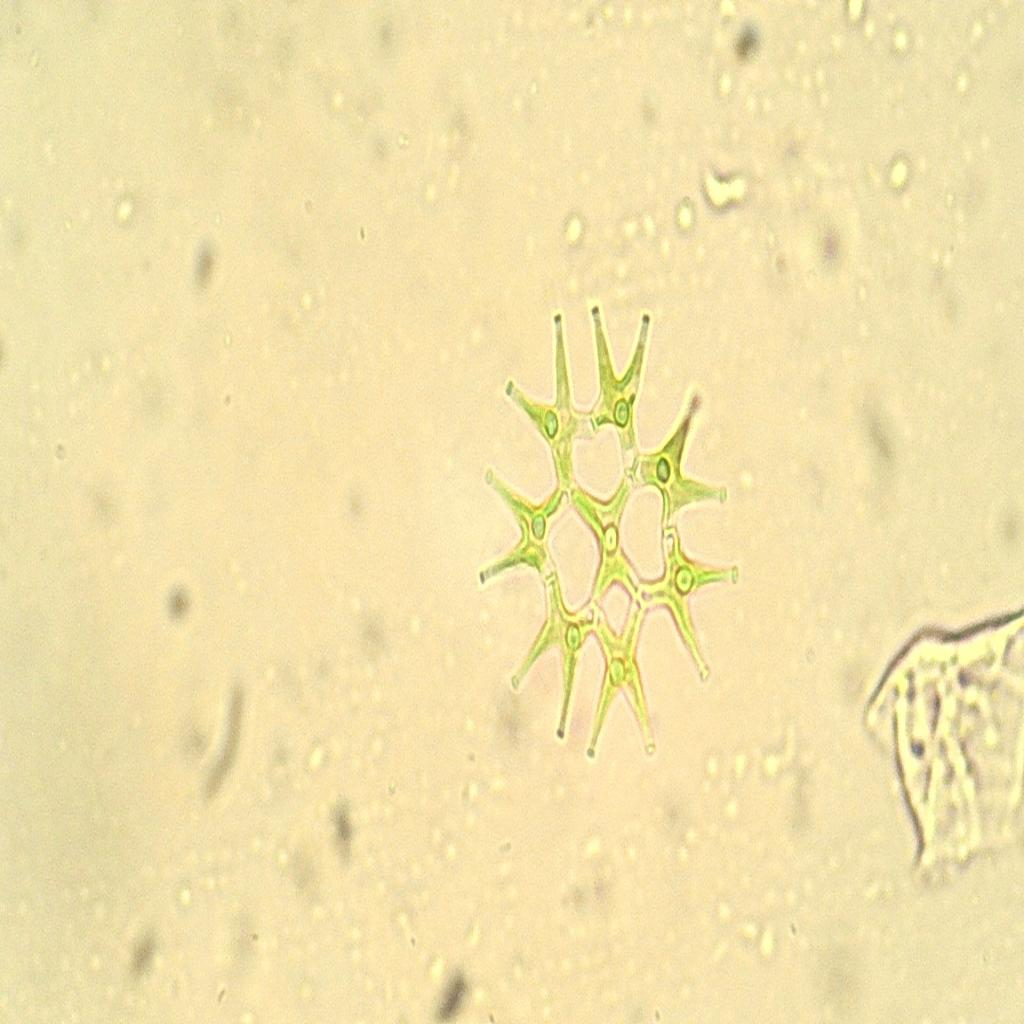Pediastrum_1T: (466, 288, 746, 773)
